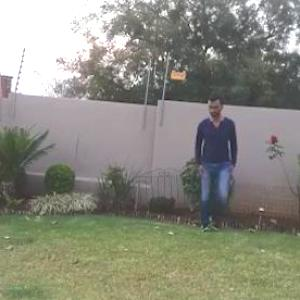follow: (188, 92, 238, 232)
